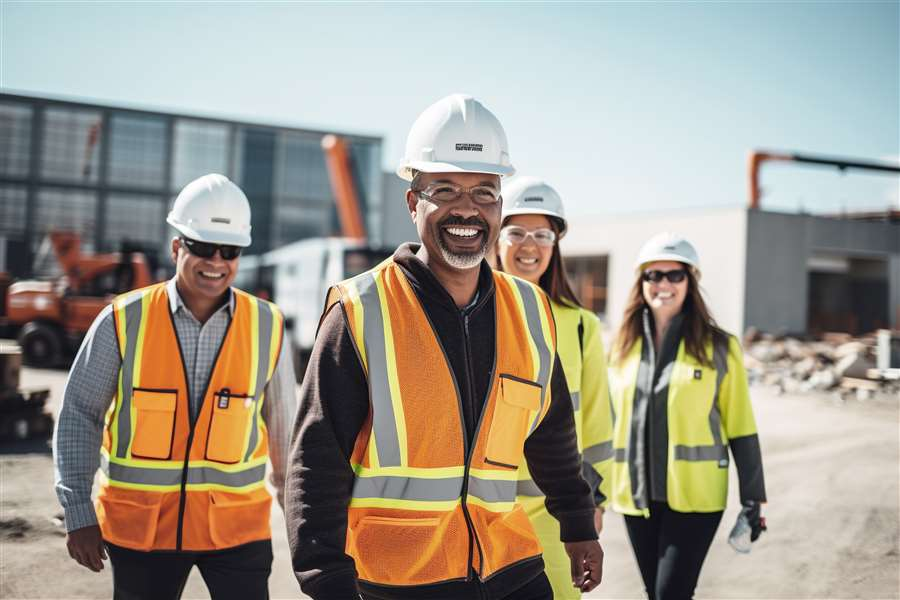jacket: (330, 266, 542, 578), (104, 282, 281, 549), (603, 319, 755, 517)
white_hat: (404, 93, 526, 189), (158, 178, 270, 251), (517, 171, 578, 233), (638, 233, 711, 273)
